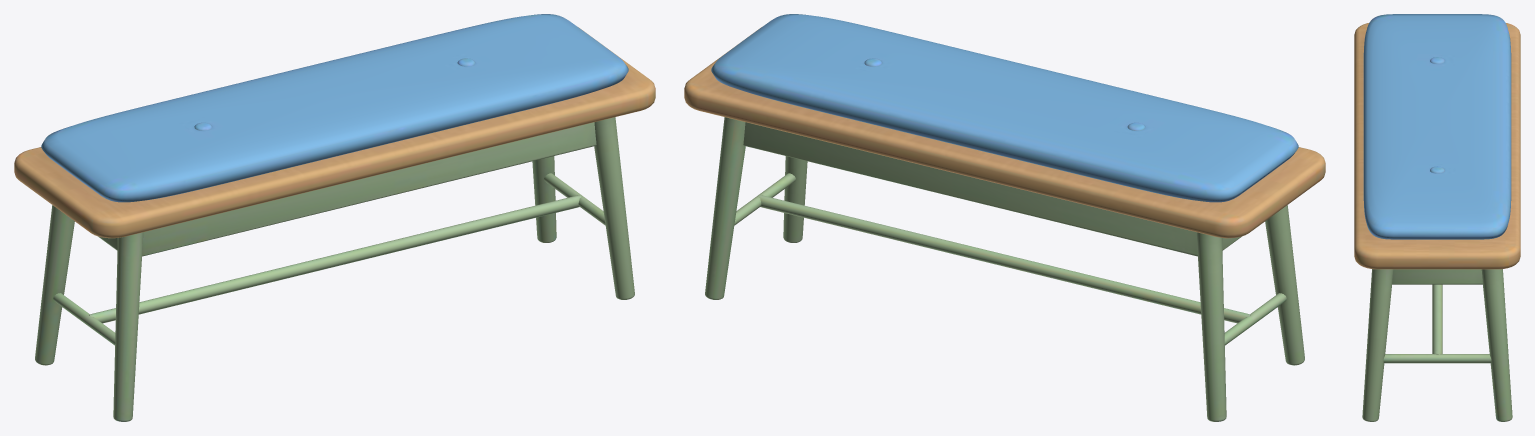
File: bench.glb
3 renders of one model, left to right at view 1: azimuth 30°, elevation 25°; view 2: azimuth 150°, elevation 25°; view 3: azimuth 270°, elevation 25°, orthographic. The views are drawn at different scales.
Visible parts, largest first — view 1: bench_body; view 2: bench_body; view 3: bench_body.
Part boxes in pixels (x1=…): bench_body: x1=14, y1=14, x2=655, y2=421; bench_body: x1=684, y1=14, x2=1325, y2=421; bench_body: x1=1354, y1=14, x2=1520, y2=421.
Size of the model in its own units: 1.2 by 0.4815 by 0.36.
Materials: 1 (1 with a texture image).
